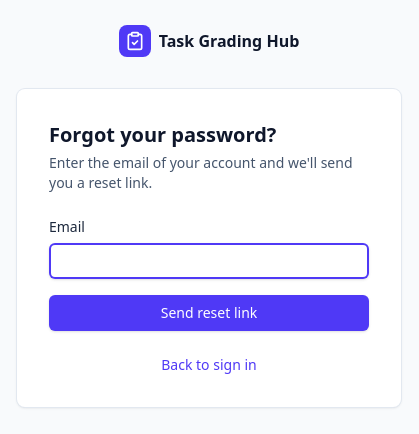
Test: password reset › answers the same way whether or not the email exists
The image size is (419, 434).
Step 1. Type "nobody@example.com" into the field labelled "Email" → [209, 261], box [49, 243, 369, 279]
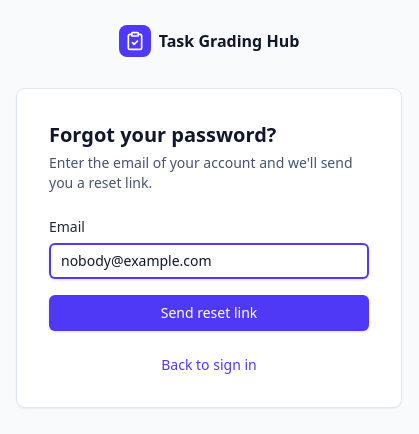
Step 2. Click the button "Send reset link" → [209, 313], box [49, 295, 369, 331]
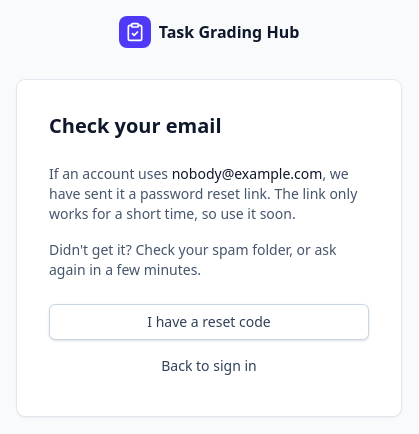
Check: the heading "Check your email" is shown, box [49, 112, 222, 139]
Check: the text "If an account uses" shows "nobody@example.com", box [172, 164, 322, 183]
